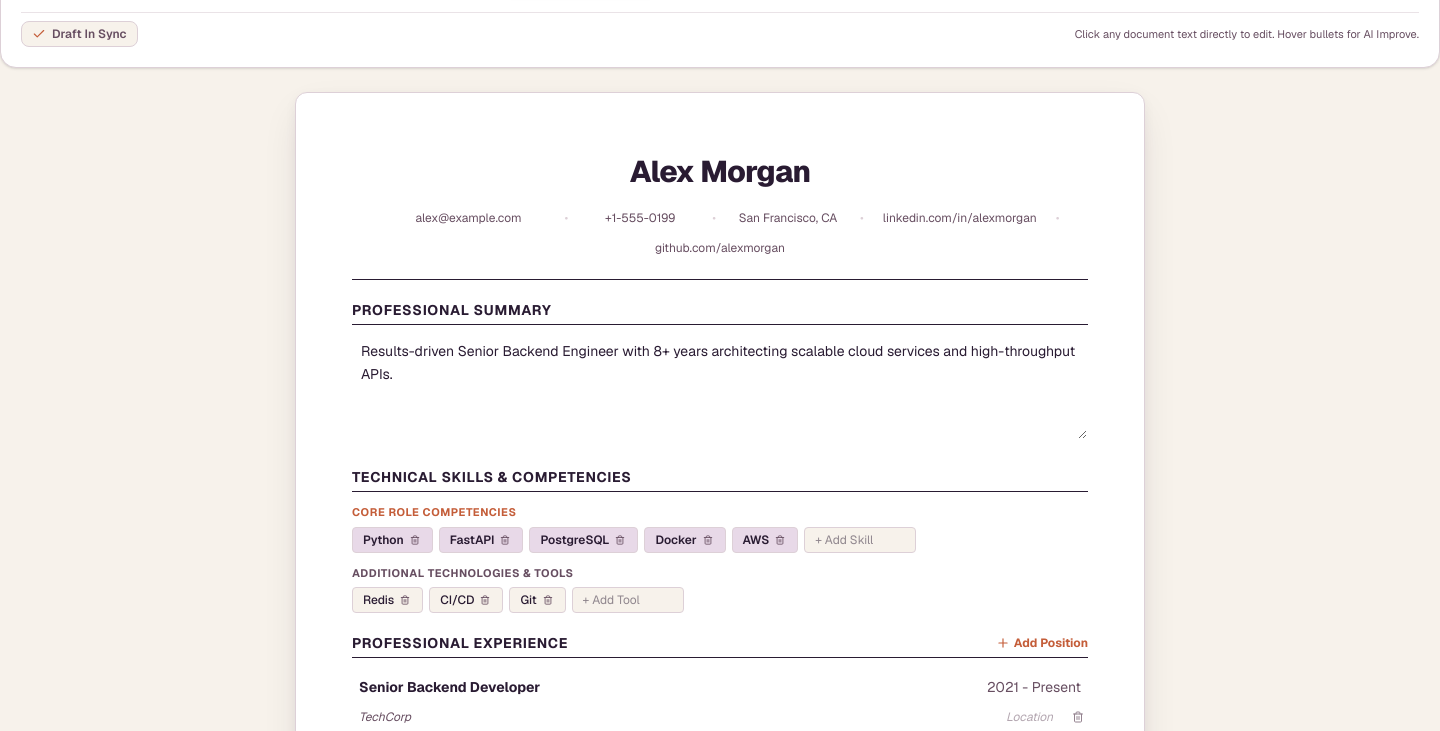
Phase 6.4 - Inline ATS Document Resume Editor & Repeatable AI Improve › 4. AI Improve: Accept updates only the targeted block, while Reject leaves original unchanged
Note: Focus summary to reveal contextual AI Improve button
Click the text box showing "Results-driven Senior Backend Engineer with 8+ years architecting scalable cloud services and high-throughput APIs." at (720, 386), box [352,331,1088,440]
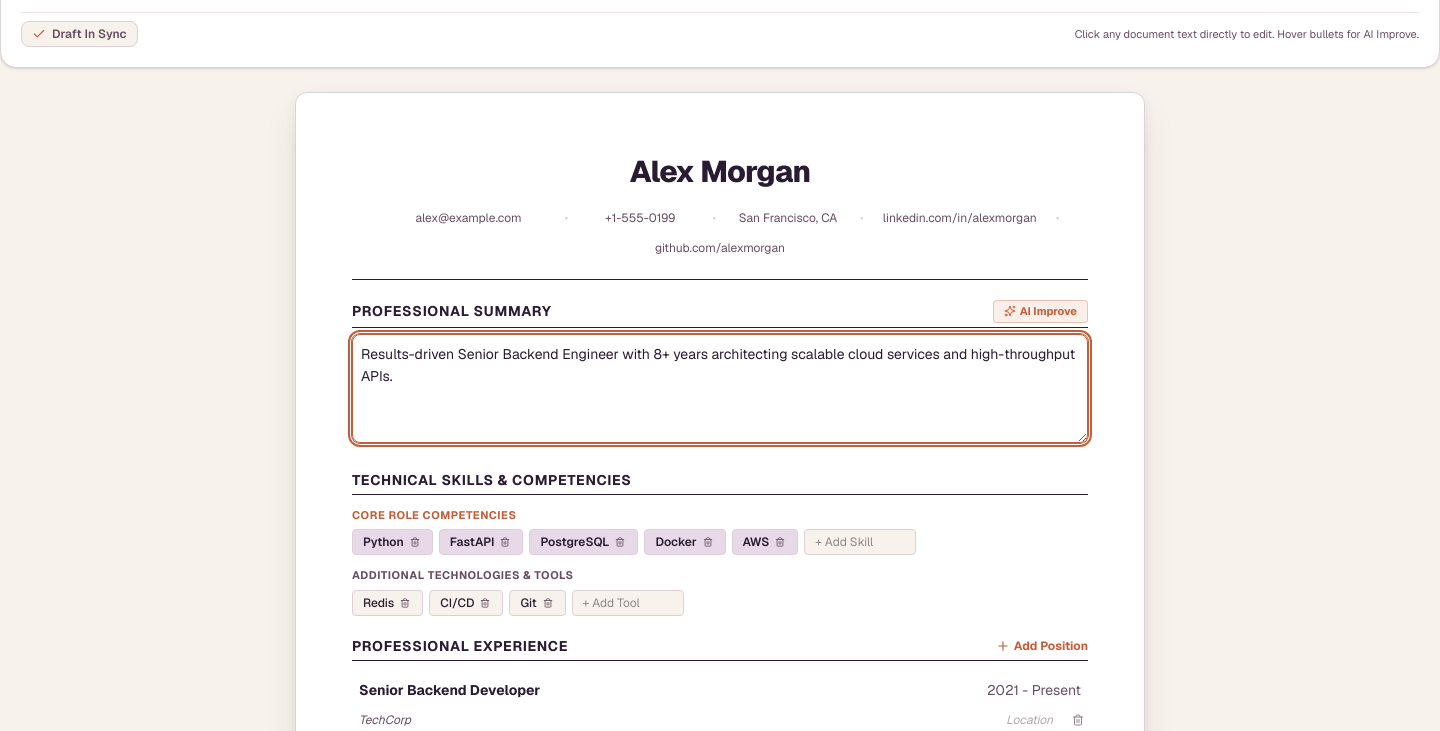
Click the button titled "AI Improve Summary wording" at (1040, 311), box [993,300,1088,322]
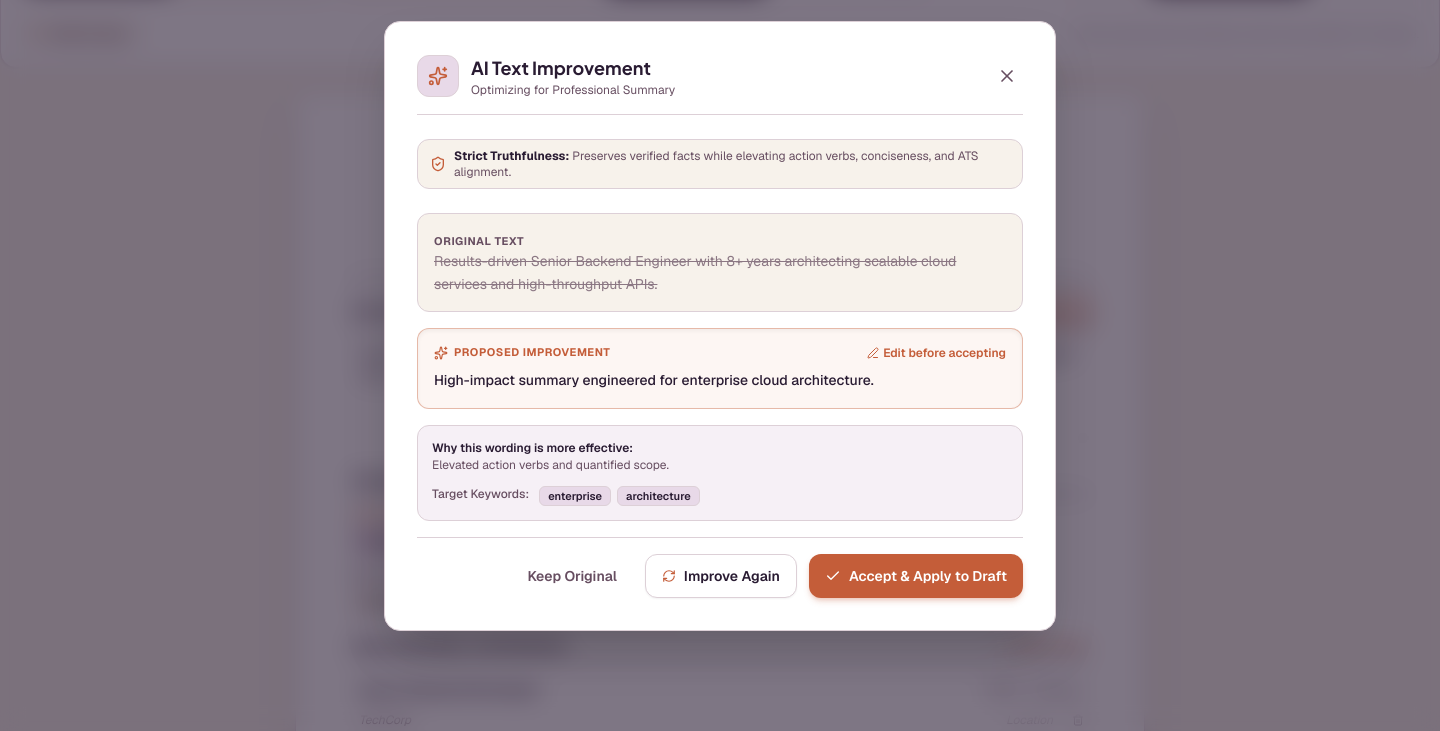
Expected: the text "High-impact summary engineered for enterprise cloud architecture." is shown, [434,371,874,389]
Note: Accept & Apply
Click the button "Accept & Apply to Draft" at (916, 576), box [809,554,1023,598]
(page scrolled)
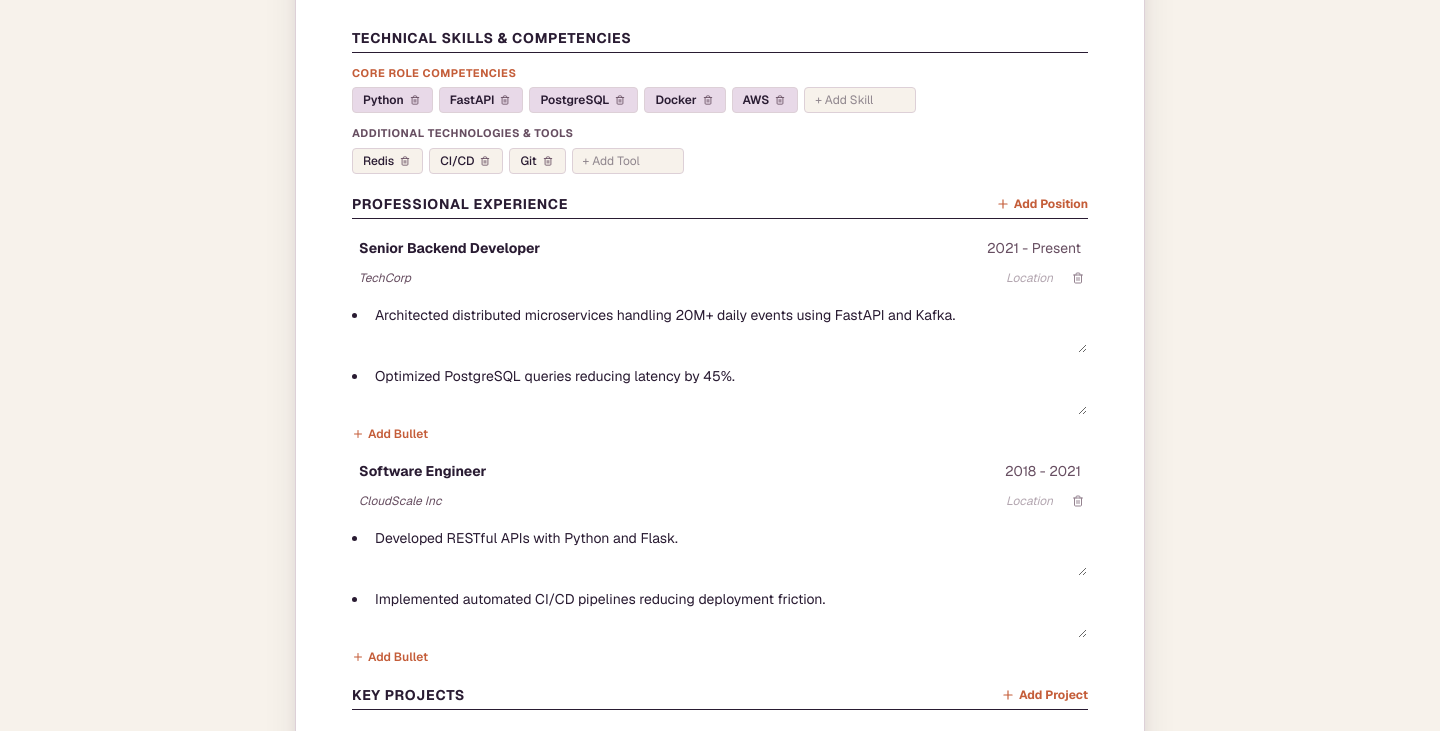
Note: Focus the first bullet to reveal its contextual AI improve button
Click the 2nd text box showing "Architected distributed microservices handling 20M+ daily events using FastAPI and Kafka." at (728, 326), box [368,298,1088,354]
(page scrolled)
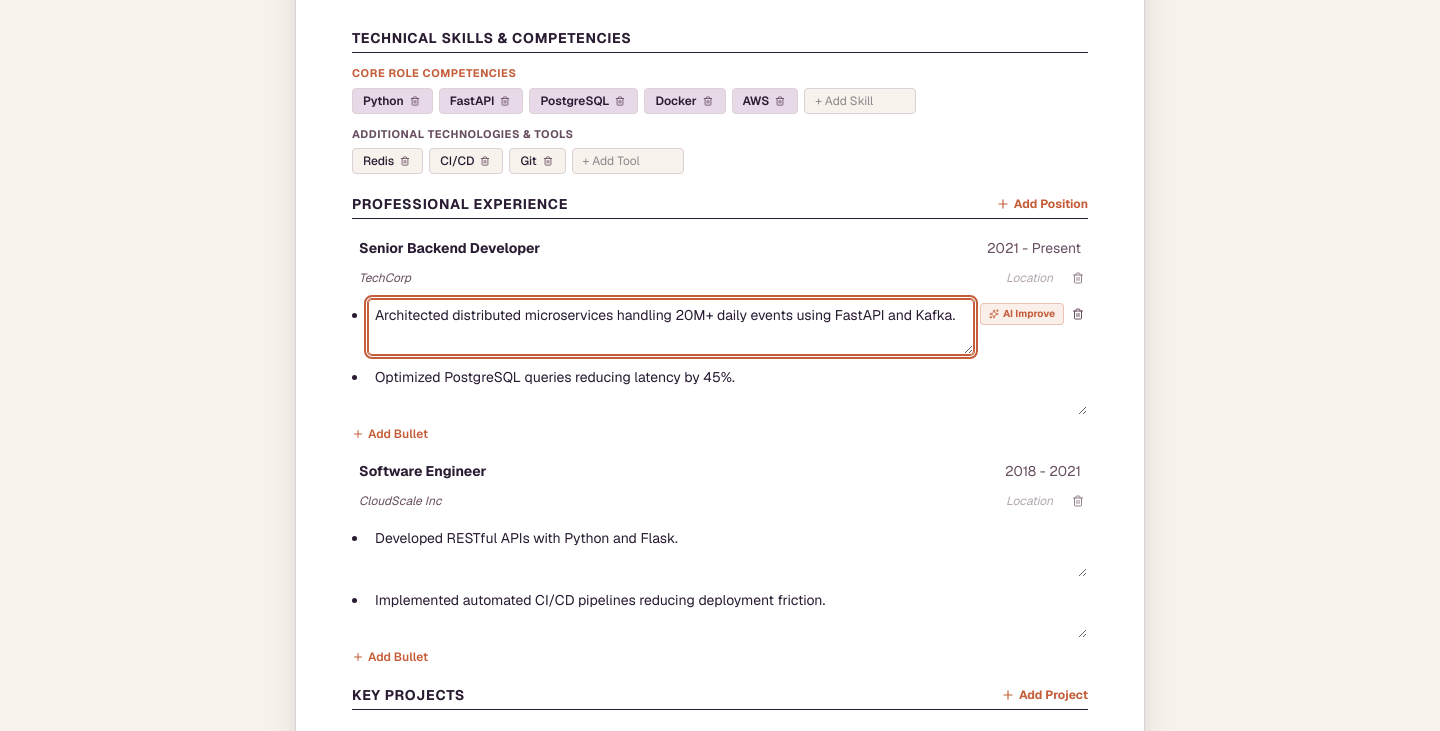
Click the button titled "AI Improve this bullet" at (1022, 314), box [980,303,1064,325]
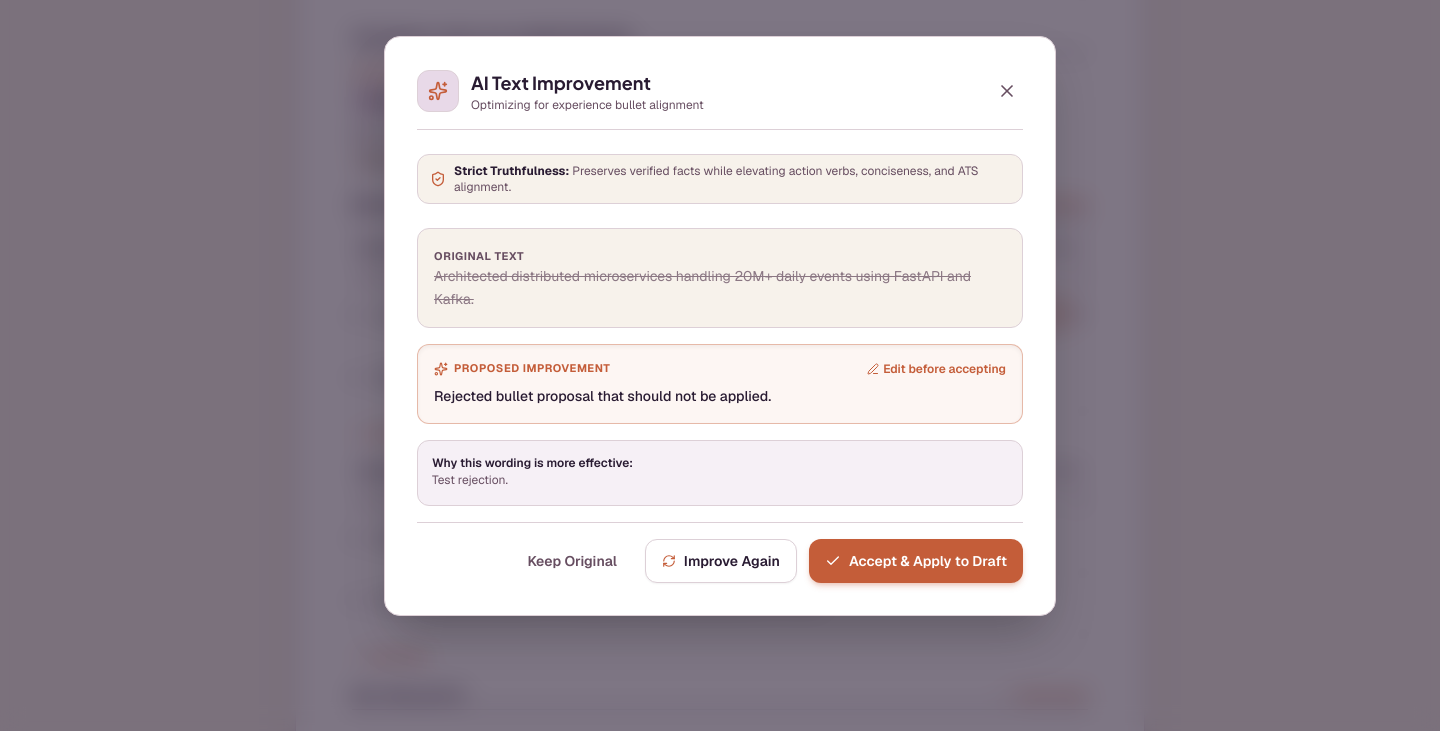
Expected: the button "Keep Original" is shown
Note: Click Reject / Keep Original
Click the button "Keep Original" at (572, 561), box [511,539,633,583]
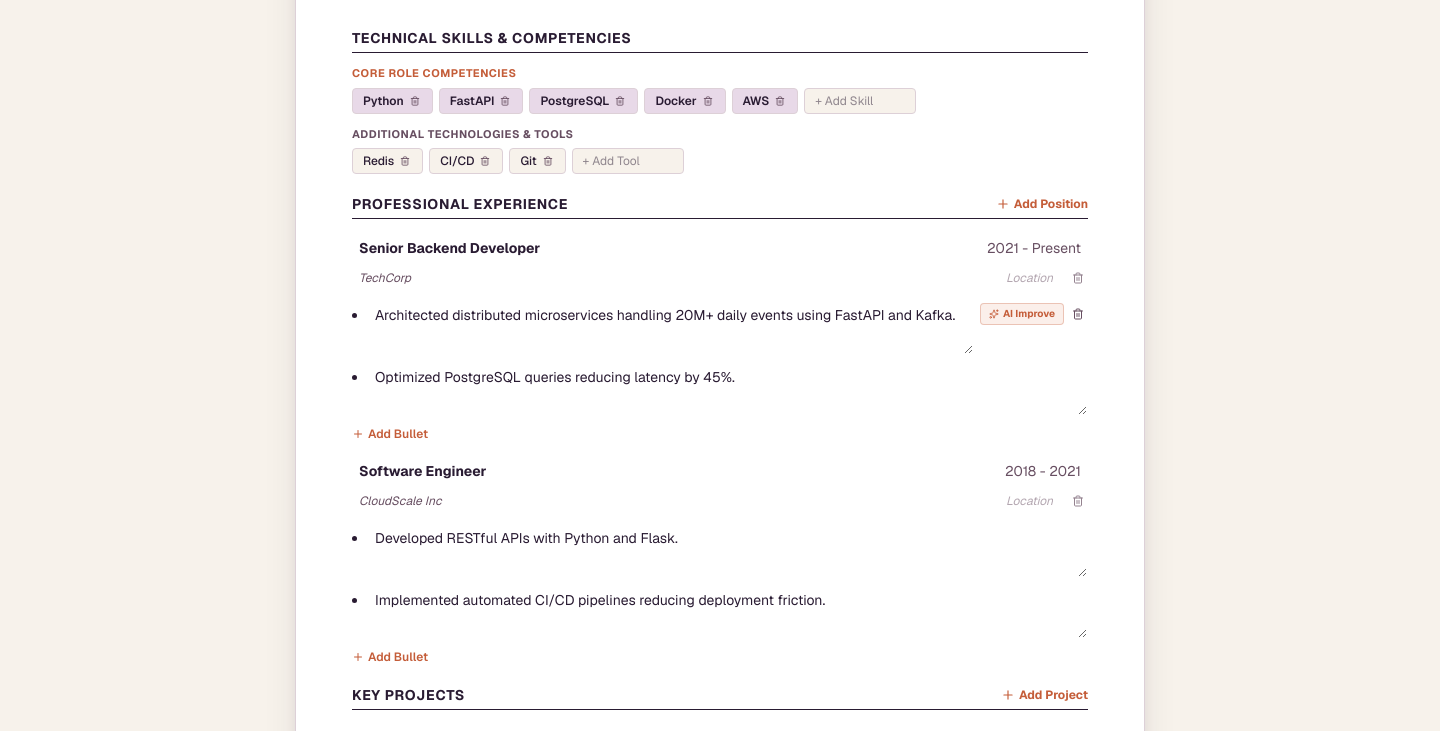
Expected: the 2nd text box showing "Architected distributed microservices handling 20M+ daily events using FastAPI and Kafka." is shown, [368,299,974,354]
Expected: the text showing "Rejected bullet proposal that should not be applied." is gone
